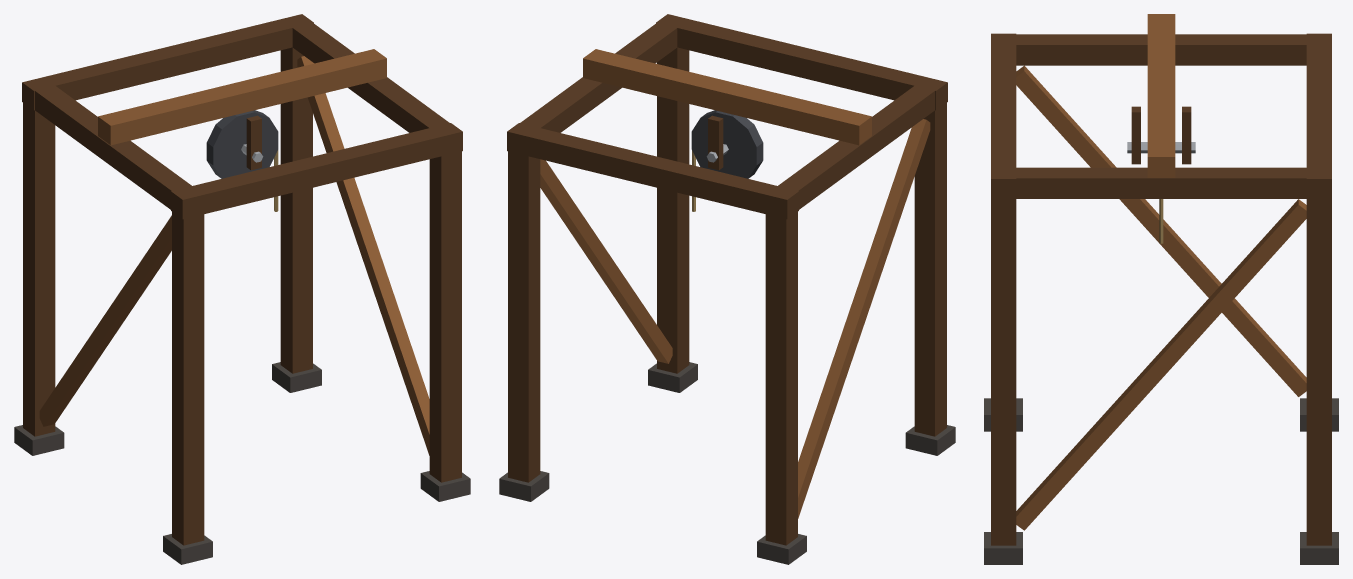
Rendered from mine_shaft_headframe.glb.
3 views of the same model, side by side, from view 1: azimuth 30°, elevation 25°; view 2: azimuth 150°, elevation 25°; view 3: azimuth 270°, elevation 25° (orthographic). The views are drawn at different scales.
Visible parts, largest first — view 1: mine_shaft_headframe; view 2: mine_shaft_headframe; view 3: mine_shaft_headframe.
Boxes of the visible parts, <box> form: mine_shaft_headframe: <box>14,14,470,564</box>; mine_shaft_headframe: <box>499,14,955,564</box>; mine_shaft_headframe: <box>984,14,1338,564</box>.
Size of what is drawn, in the model's own units: 3.1 by 3.9 by 3.1.
